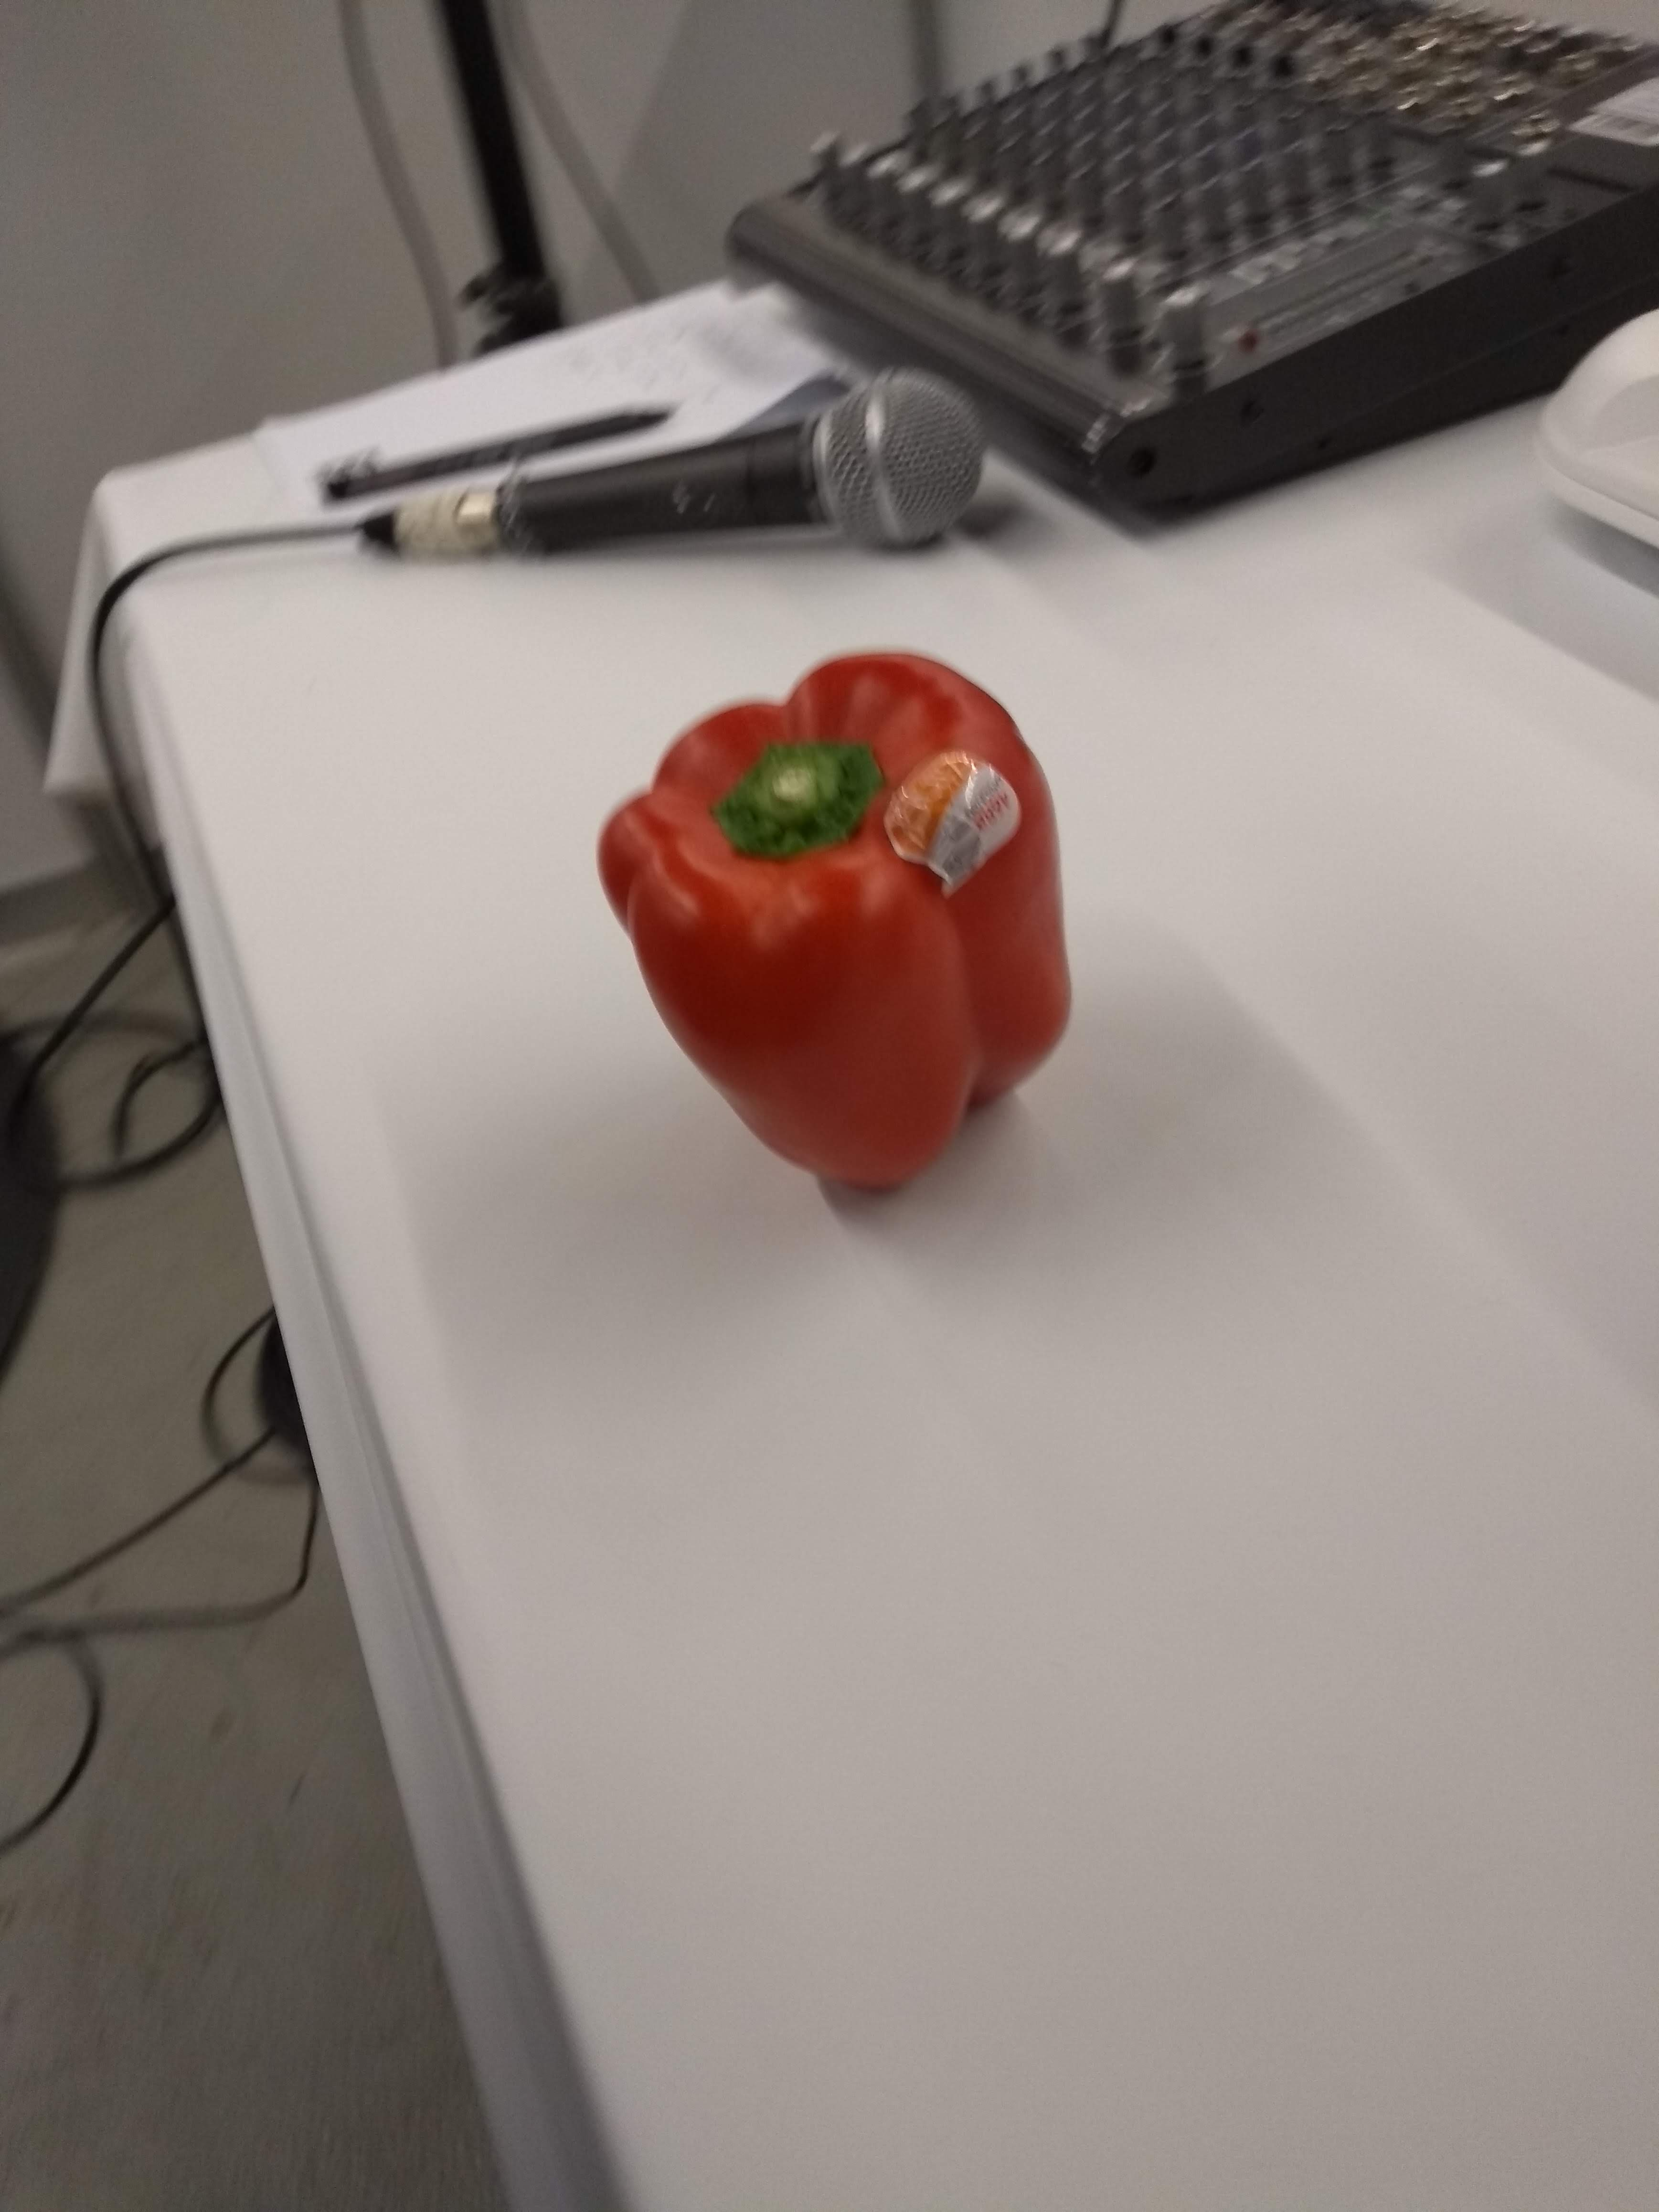paprika: (579, 636, 1091, 1200)
